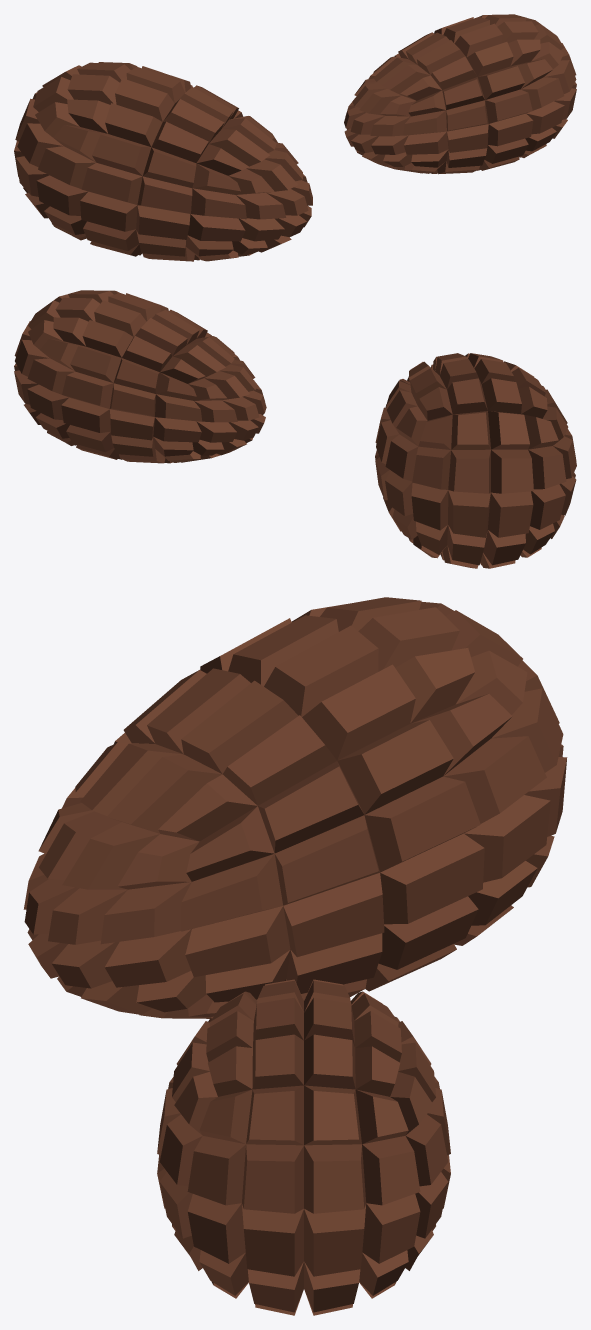
The model's file is Pinecones.fbx.
The picture shows the model from 3 angles, top to bottom: view 1: azimuth 30°, elevation 25°; view 2: azimuth 150°, elevation 25°; view 3: azimuth 270°, elevation 25°; orthographic projection. The views are drawn at different scales.
Visible parts, largest first — view 1: pinecones.001; view 2: pinecones.001; view 3: pinecones.001.
Boxes of the visible parts, bbox=[...] form: pinecones.001: bbox=[14, 14, 576, 261]; pinecones.001: bbox=[14, 290, 576, 568]; pinecones.001: bbox=[23, 597, 567, 1315].
Bounding box in the file's own units: 191 × 60.63 × 86.76.
